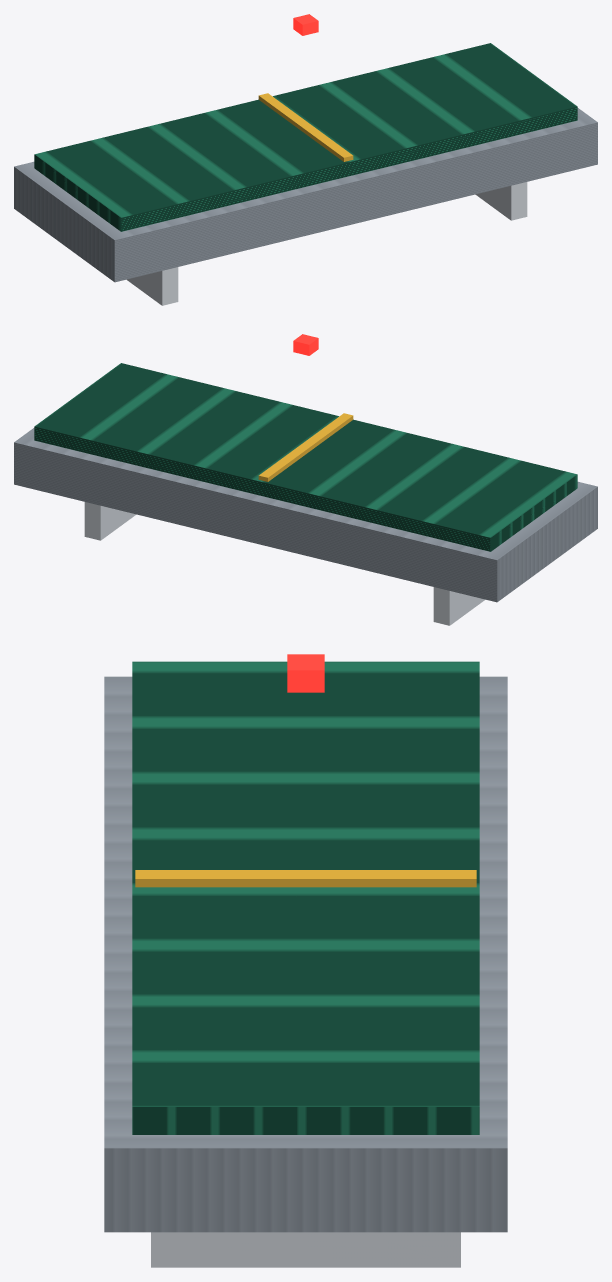
The model's file is Conveyor.gltf.
3 views of the same model, one above another, from view 1: azimuth 30°, elevation 25°; view 2: azimuth 150°, elevation 25°; view 3: azimuth 270°, elevation 25° (orthographic). The views are drawn at different scales.
Visible parts, largest first — view 1: Belt, Body, LegRight, Motion, LegLeft, Fault; view 2: Belt, Body, LegRight, Motion, LegLeft, Fault; view 3: Belt, Body, LegRight, Motion, Fault.
Boxes of the visible parts, x1=… form: Belt: x1=34, y1=43, x2=577, y2=231; Body: x1=14, y1=108, x2=597, y2=282; LegRight: x1=475, y1=182, x2=527, y2=220; Motion: x1=258, y1=93, x2=353, y2=161; LegLeft: x1=127, y1=267, x2=178, y2=305; Fault: x1=293, y1=14, x2=318, y2=35; Belt: x1=34, y1=363, x2=577, y2=551; Body: x1=14, y1=428, x2=597, y2=602; LegRight: x1=84, y1=502, x2=136, y2=540; Motion: x1=258, y1=413, x2=353, y2=481; LegLeft: x1=433, y1=587, x2=484, y2=625; Fault: x1=293, y1=334, x2=318, y2=355; Belt: x1=132, y1=661, x2=479, y2=1134; Body: x1=104, y1=676, x2=507, y2=1232; LegRight: x1=151, y1=1232, x2=460, y2=1267; Motion: x1=135, y1=870, x2=476, y2=887; Fault: x1=287, y1=654, x2=324, y2=692.
Bounding box in the file's own units: 1.8 × 0.76 × 0.65.
5 materials, 2 textured.
